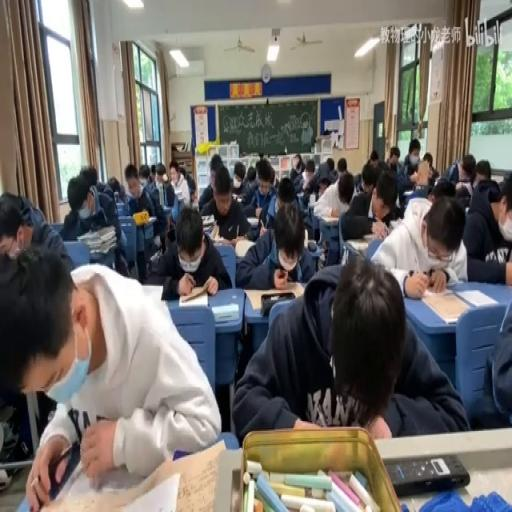calculator: (243, 283, 301, 310), (421, 292, 469, 322), (212, 300, 238, 322), (234, 236, 256, 258), (180, 288, 206, 306), (138, 282, 164, 300), (346, 238, 370, 252), (213, 233, 234, 246), (202, 214, 214, 234), (320, 213, 339, 225), (160, 204, 174, 218), (363, 232, 379, 242), (149, 246, 160, 260), (389, 219, 402, 230), (157, 184, 163, 206), (246, 214, 259, 224), (490, 174, 503, 184), (296, 189, 307, 199), (144, 215, 156, 223), (304, 228, 308, 248), (230, 192, 238, 199), (403, 189, 413, 194)
paper: (3, 237, 215, 512), (234, 254, 464, 441), (374, 189, 468, 292), (60, 165, 126, 277), (236, 199, 314, 289), (469, 283, 510, 428), (461, 170, 512, 280), (122, 163, 167, 276), (0, 192, 68, 265), (197, 160, 251, 244), (338, 169, 386, 246), (444, 152, 477, 199), (302, 155, 336, 199), (298, 192, 317, 239), (404, 136, 422, 175), (256, 159, 274, 191), (106, 175, 126, 202), (181, 164, 195, 200), (80, 164, 98, 192), (276, 180, 294, 208), (473, 158, 490, 186), (138, 162, 150, 188), (290, 152, 304, 174), (374, 158, 388, 179), (387, 145, 400, 166), (167, 161, 179, 182), (164, 182, 174, 206), (245, 165, 255, 185), (427, 166, 438, 184), (422, 151, 433, 168), (353, 172, 362, 192), (155, 170, 166, 186), (337, 156, 346, 174), (369, 149, 378, 162), (326, 156, 334, 170), (306, 165, 314, 179), (150, 164, 156, 180), (273, 175, 278, 188)
person: (384, 452, 470, 494), (307, 239, 318, 252), (244, 230, 254, 240), (414, 185, 426, 192)
